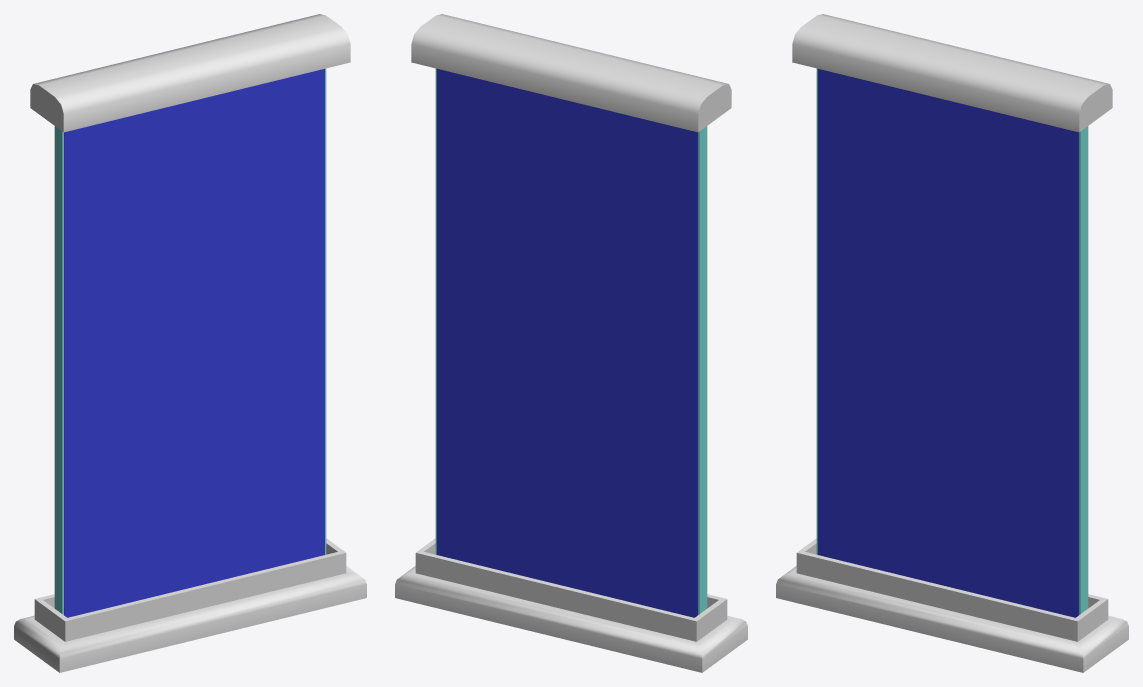
The model's file is Devider Water.fbx.
3 views of the same model, side by side, from view 1: azimuth 30°, elevation 25°; view 2: azimuth 150°, elevation 25°; view 3: azimuth 330°, elevation 25° (orthographic).
Visible parts, largest first — view 1: Devider; view 2: Devider; view 3: Devider.
Boxes of the visible parts, <box> form: Devider: <box>14,14,366,672</box>; Devider: <box>395,14,747,672</box>; Devider: <box>776,14,1128,672</box>.
Size of the model in its own units: 1.16 by 2.03 by 0.2988.
